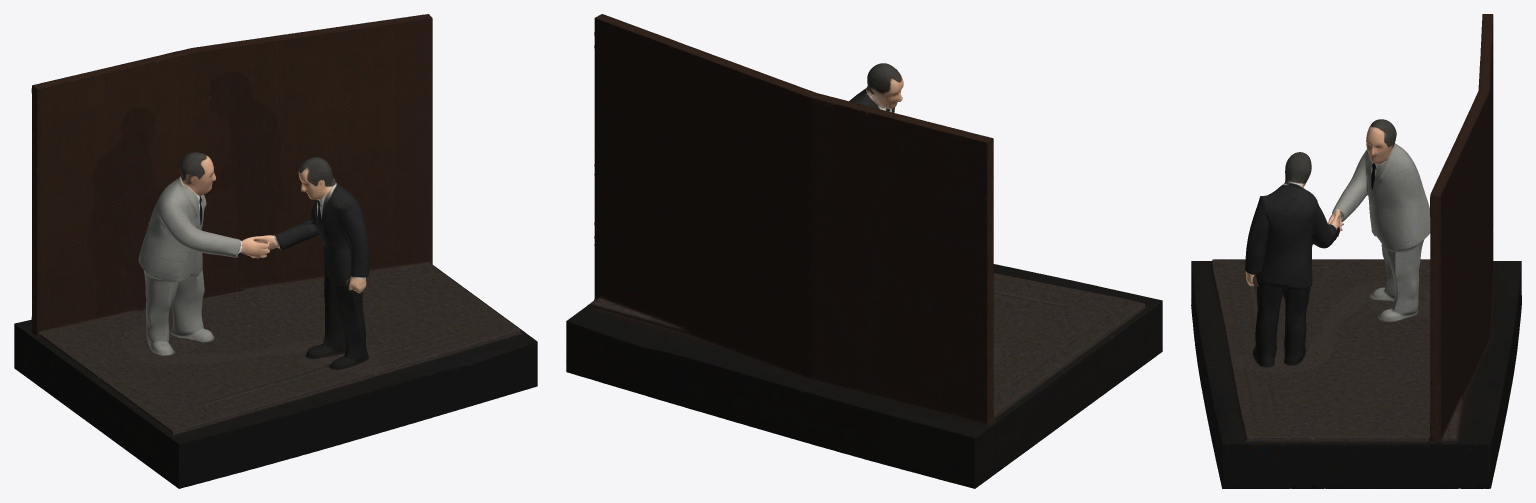
Rendered from my_bat_tay.glb.
The picture shows the model from 3 angles, left to right: view 1: azimuth 30°, elevation 25°; view 2: azimuth 150°, elevation 25°; view 3: azimuth 270°, elevation 25°; orthographic projection. The views are drawn at different scales.
Bounding box in the file's own units: 1.9 × 1.42 × 1.45.
1 material, 1 textured.
